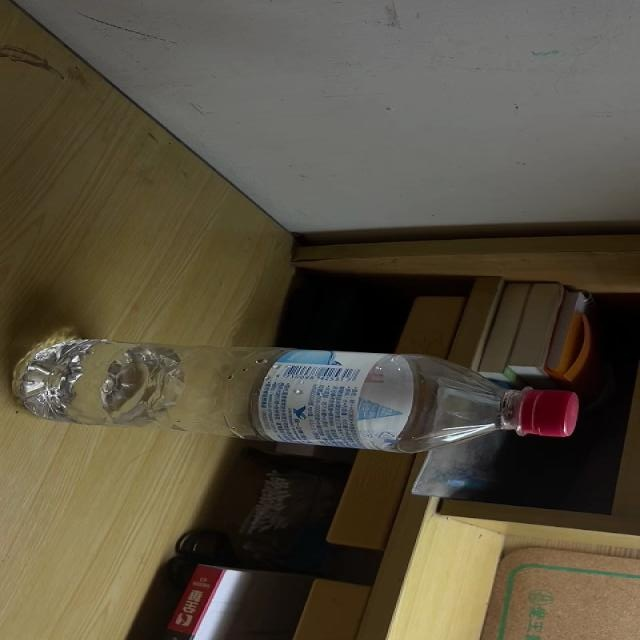Water: (23, 339, 582, 454)
